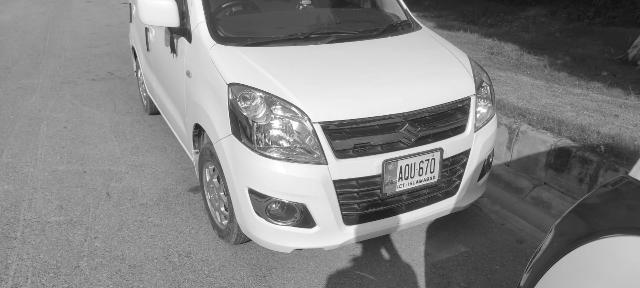Number: (397, 157, 437, 183)
